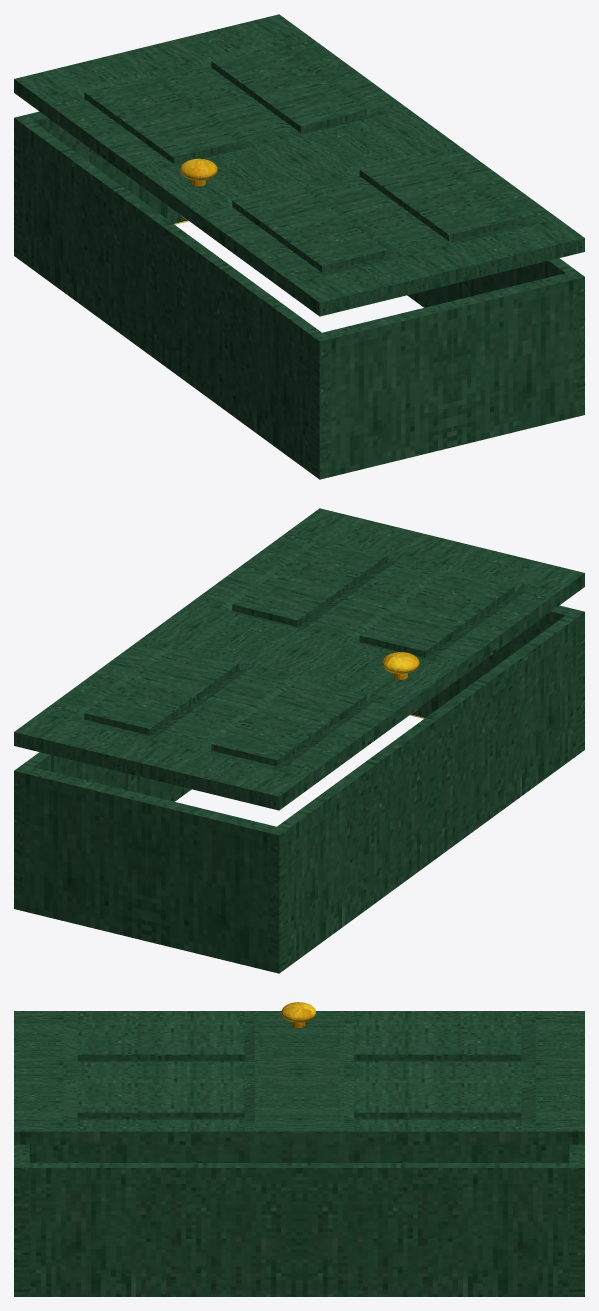
File: door_1.fbx
3 views of the same model, one above another, from view 1: azimuth 30°, elevation 25°; view 2: azimuth 150°, elevation 25°; view 3: azimuth 270°, elevation 25° (orthographic). The views are drawn at different scales.
Parts seen in each view (by area): view 1: Cube_001, Cube, Sphere; view 2: Cube_001, Cube, Sphere; view 3: Cube_001, Cube, Sphere.
Part boxes in pixels (x1,y1,x2,y2): Cube_001: [14, 111, 584, 479]; Cube: [14, 14, 584, 316]; Sphere: [180, 158, 217, 186]; Cube_001: [14, 605, 584, 973]; Cube: [14, 508, 584, 810]; Sphere: [382, 652, 419, 679]; Cube_001: [14, 1144, 584, 1296]; Cube: [14, 1011, 584, 1144]; Sphere: [281, 1002, 315, 1027].
Bounding box in the file's own units: 4.02 × 2.87 × 8.02.
